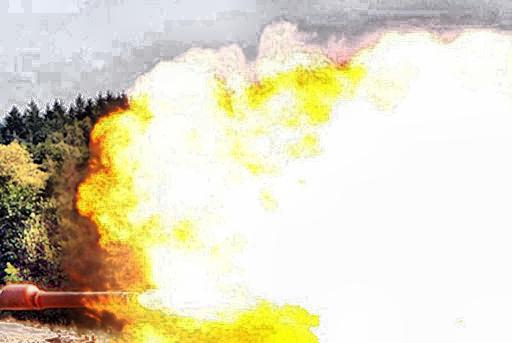tanks: (1, 285, 124, 311), (1, 321, 104, 343)
